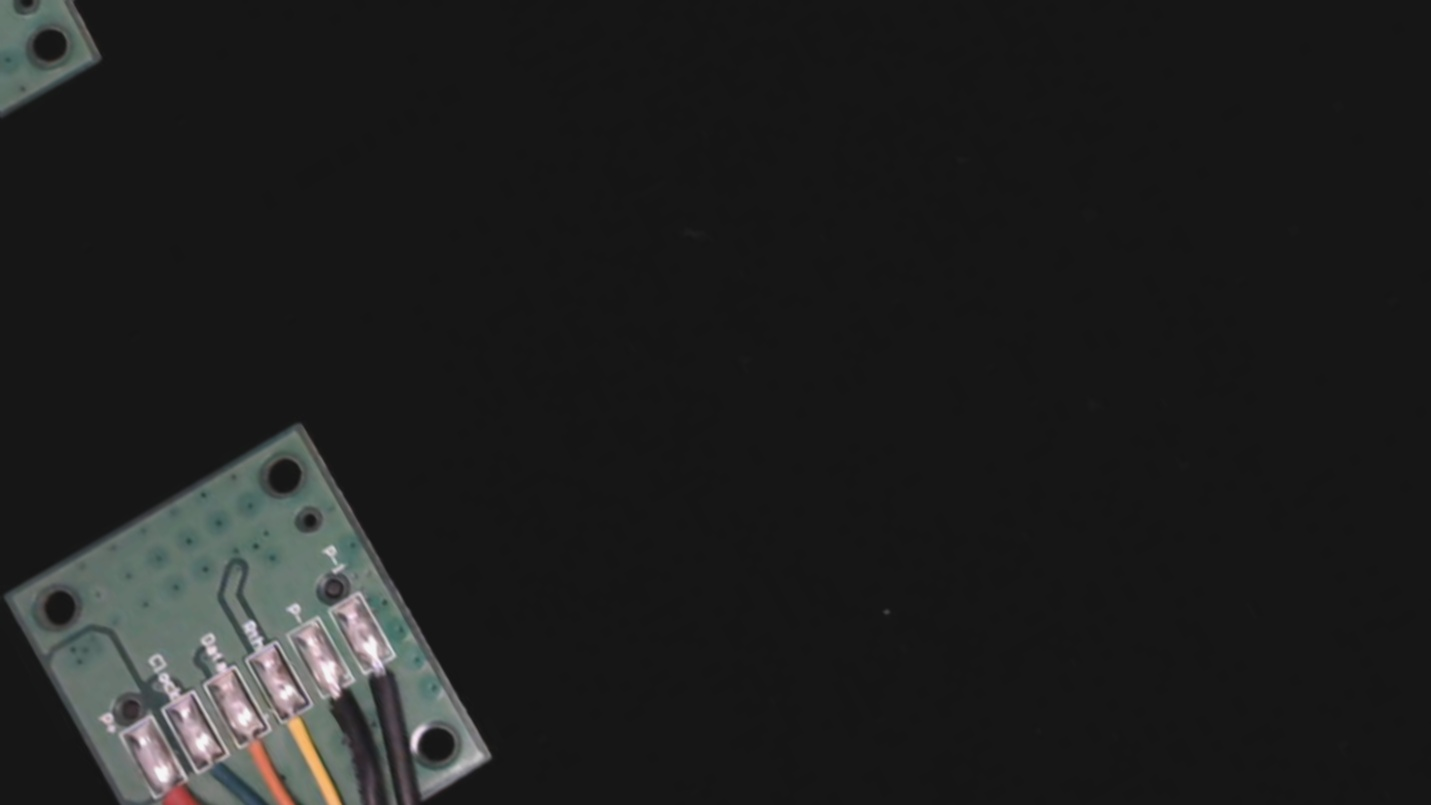Black: (307, 666, 387, 757)
Black1: (350, 640, 432, 731)
Green: (180, 736, 266, 805)
Orange: (224, 712, 309, 805)
Red: (141, 763, 224, 805)
Yellow: (263, 690, 351, 789)
